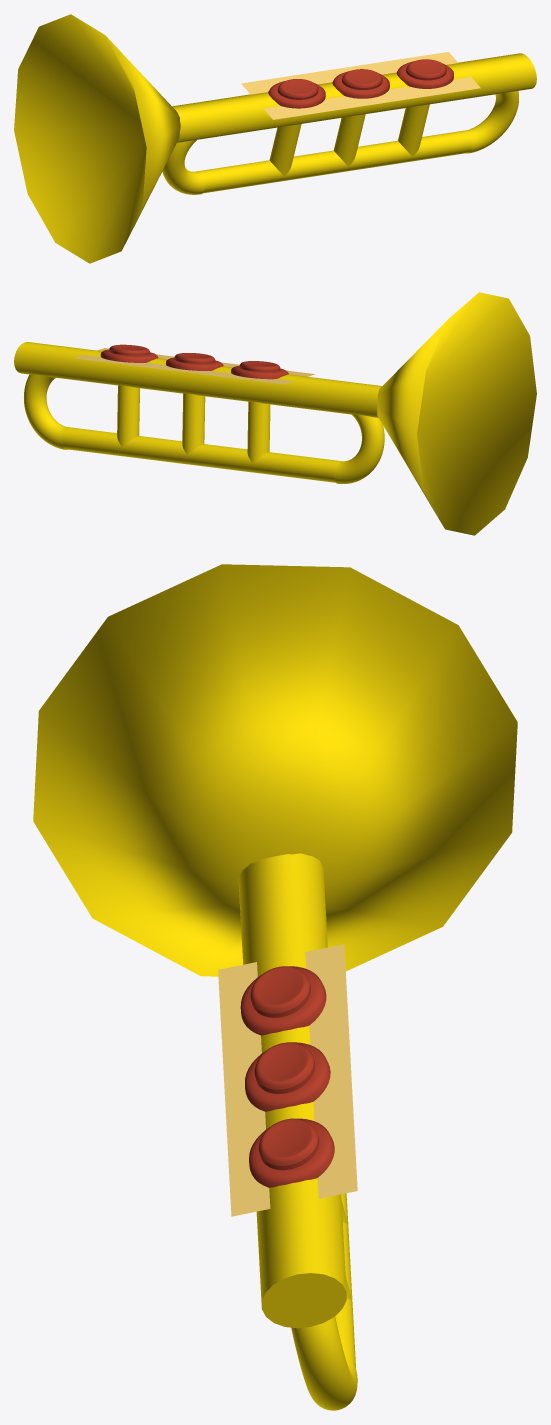
File: trumpet.obj
The picture shows the model from 3 angles, top to bottom: view 1: azimuth 30°, elevation 25°; view 2: azimuth 150°, elevation 25°; view 3: azimuth 270°, elevation 25°; orthographic projection. The views are drawn at different scales.
Visible parts, largest first — view 1: Cone, Cylinder, Cylinder (1), ButtonGlow, ButtonMesh, Torus, Torus (1), Cylinder (3), Cylinder (4), Cylinder (2), NearFieldButton (4), NearFieldButton (+1 smaller); view 2: Cone, Cylinder, Cylinder (1), Torus (1), Torus, Cylinder (4), Cylinder (3), Cylinder (2), ButtonMesh, ButtonGlow, NearFieldButton (4), NearFieldButton (+1 smaller); view 3: Cone, Cylinder, ButtonGlow, ButtonMesh, Torus, NearFieldButton (4), NearFieldButton (3), NearFieldButton, Cylinder (1).
Boxes of the visible parts, x1,y1,x2,y2 form: Cone: (14,14,180,263); Cylinder: (172,53,536,142); Cylinder (1): (196,130,473,193); ButtonGlow: (241,52,480,119); ButtonMesh: (277,59,446,99); Torus: (466,91,518,153); Torus (1): (162,140,205,194); Cylinder (3): (269,124,301,175); Cylinder (4): (398,104,429,156); Cylinder (2): (333,114,365,165); NearFieldButton (4): (268,81,325,108); NearFieldButton: (332,71,389,98); Cone: (377,292,536,535); Cylinder: (14,342,381,417); Cylinder (1): (61,427,341,482); Torus (1): (333,414,384,483); Torus: (24,374,67,449); Cylinder (4): (117,385,139,446); Cylinder (3): (247,401,270,462); Cylinder (2): (182,393,205,454); ButtonMesh: (109,344,280,372); ButtonGlow: (74,348,315,384); NearFieldButton (4): (231,365,288,380); NearFieldButton: (165,357,223,370); Cone: (33,564,517,976); Cylinder: (238,853,346,1328); ButtonGlow: (218,944,357,1216); ButtonMesh: (250,966,319,1170); Torus: (291,1316,357,1410); NearFieldButton (4): (240,966,326,1035); NearFieldButton (3): (249,1118,334,1187); NearFieldButton: (245,1042,330,1111); Cylinder (1): (335,1193,356,1369).
Size of the model in its own units: 1.52 by 0.728 by 0.6954.
